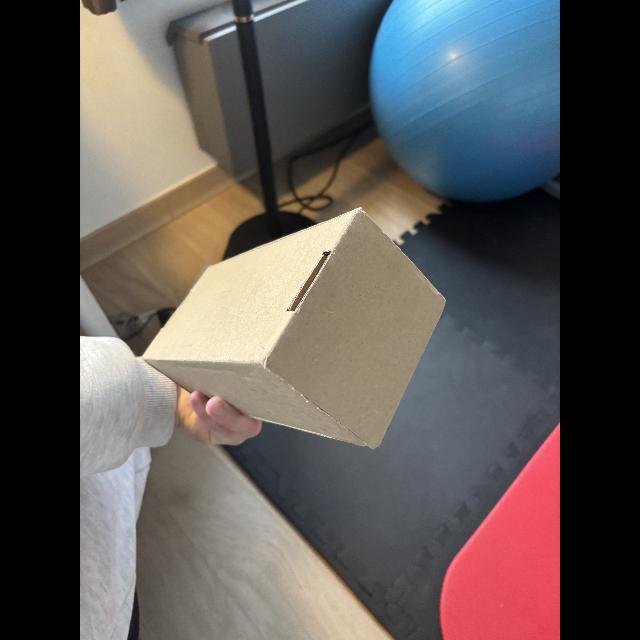Cardboard: (145, 205, 447, 453)
